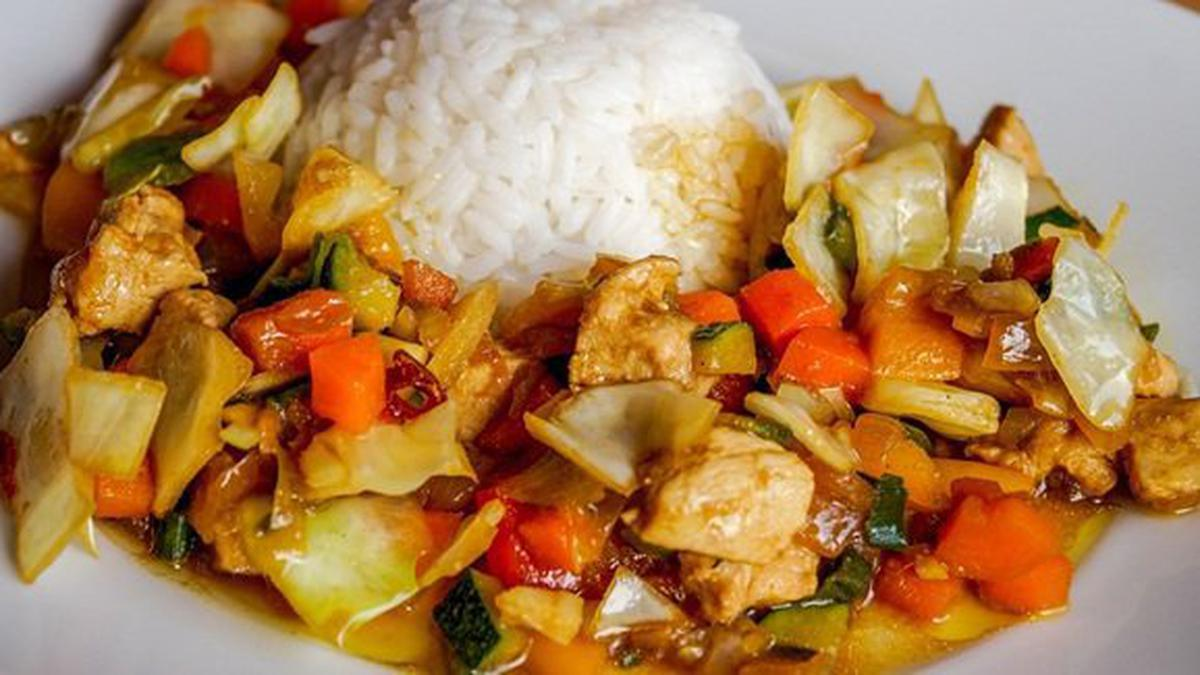buah_sayur_lainnya: (135, 279, 1035, 547)
makanan_berpati: (428, 10, 689, 211)
